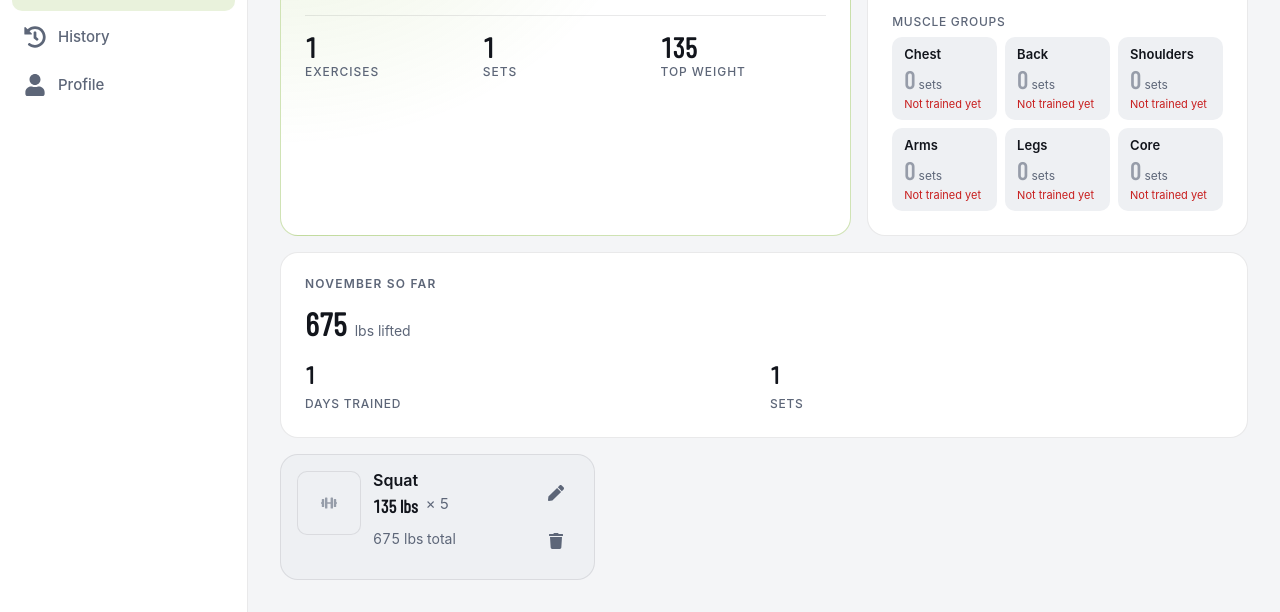
Test case: editing a saved exercise › Edit opens the form with the saved values, and saving updates the list
(page scrolled)
Expected: the heading "Squat" is shown, [373,470,418,490]
Expected: the text "135 lbs" is shown, [373,493,418,520]
Click the button named "Edit Squat".
click(556, 493)  # box [534,471,578,515]
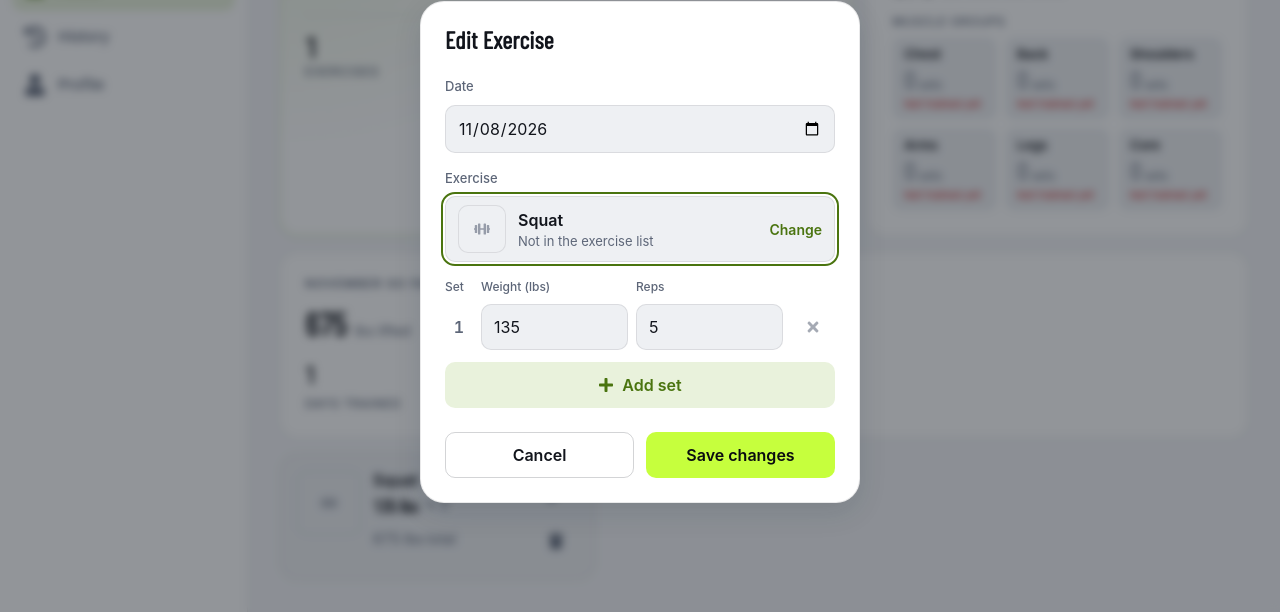
Expected: the heading "Edit Exercise" is shown, [445,25,554,54]
Expected: the number field named "set 1 weight" holds "135"
Replace the text in the number field named "set 1 weight" with "205" at [554, 327], box [481,304,628,350]
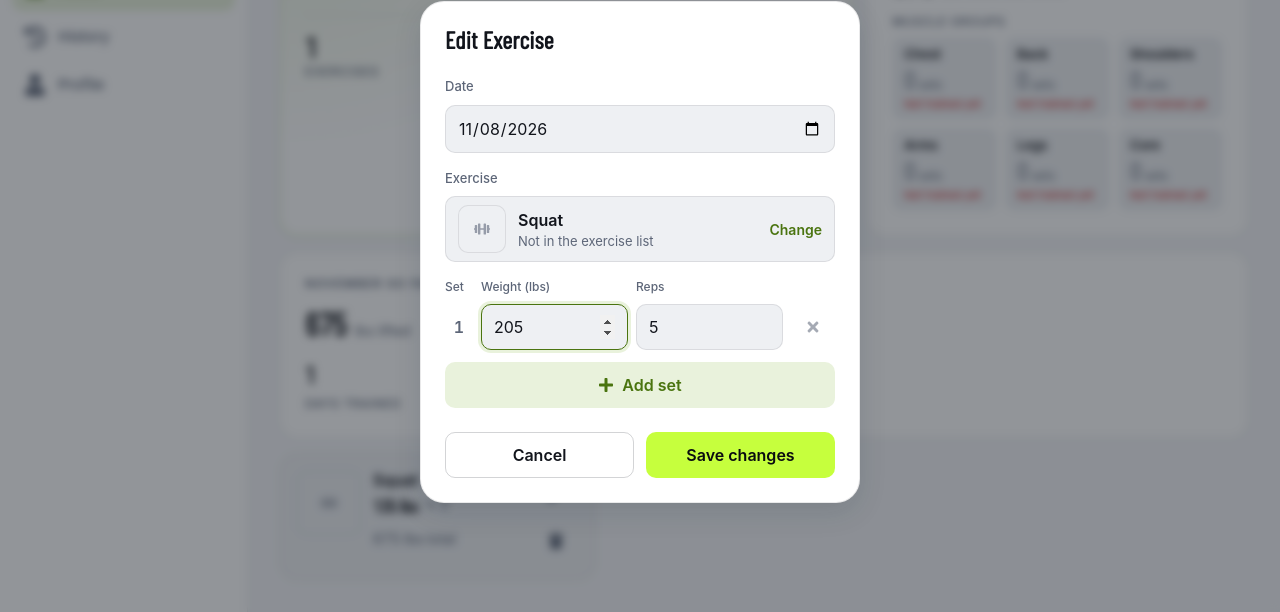
Click the button "Save changes".
click(740, 455)  # box [646,432,835,478]
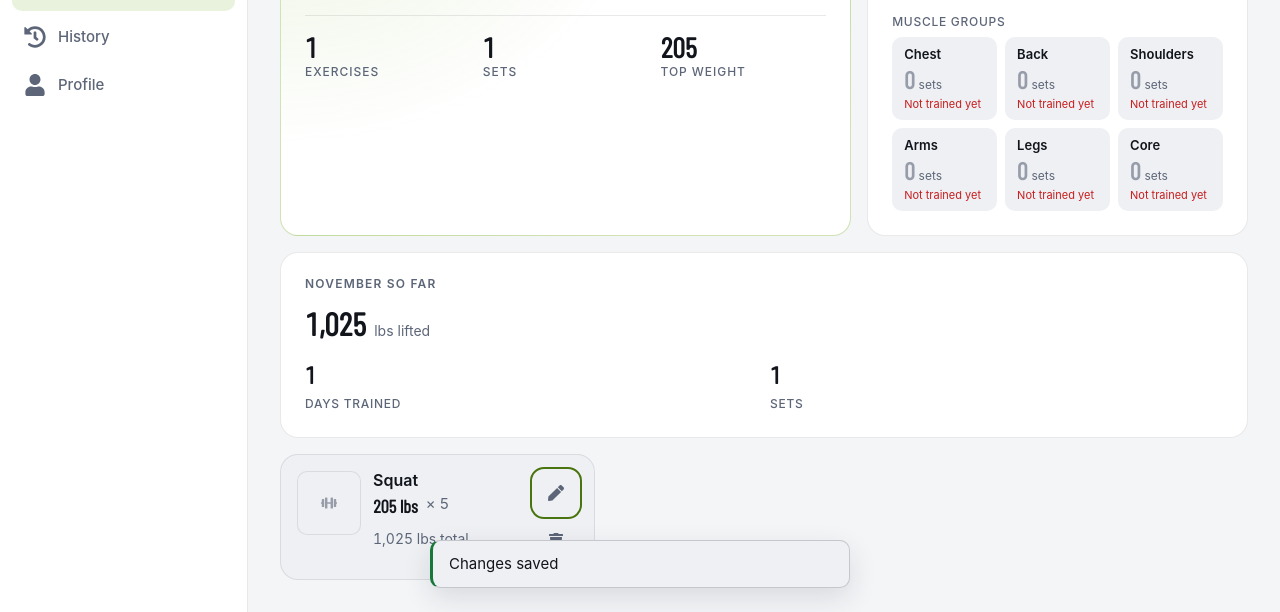
Expected: the text "205 lbs" is shown, [373,493,418,520]
Expected: the text "135 lbs" is gone
Expected: the heading "Edit Exercise" is gone
